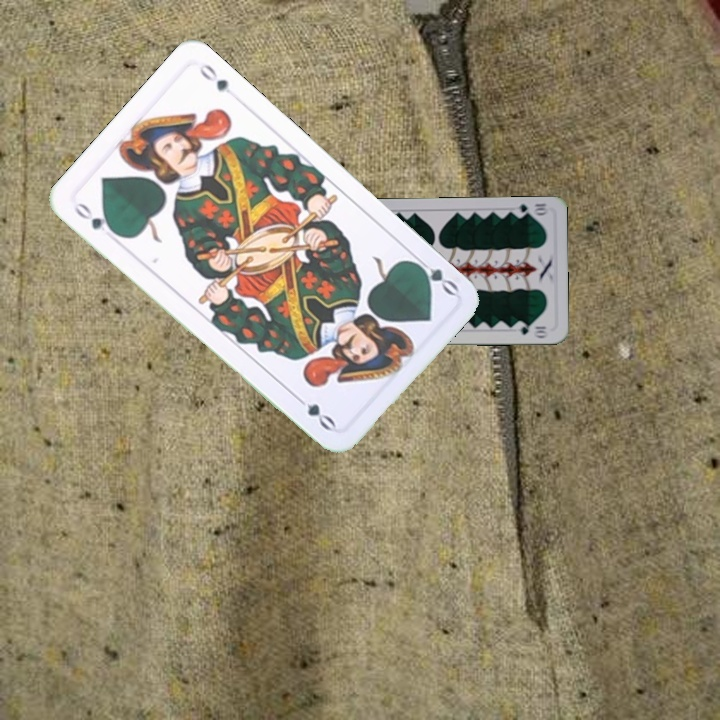G10: (510, 199, 551, 219)
GO: (408, 252, 461, 298), (69, 198, 121, 238)
